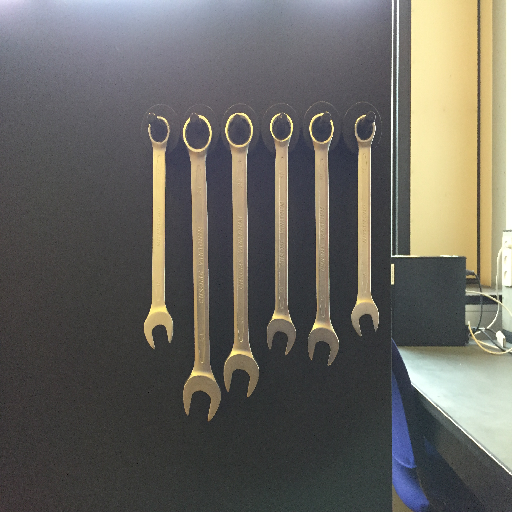bottom: (181, 375, 222, 421), (222, 352, 261, 399), (266, 310, 297, 357), (307, 323, 340, 367), (349, 295, 382, 338), (141, 313, 176, 350)
top: (180, 114, 214, 153), (223, 111, 255, 148), (307, 111, 338, 145), (268, 111, 296, 143), (146, 113, 173, 144), (353, 114, 378, 143)
